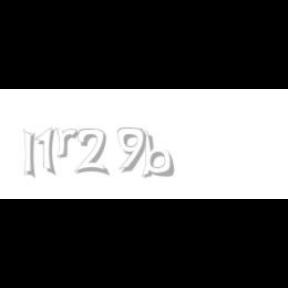1: (34, 128, 56, 176)
2: (74, 128, 108, 176)
9: (118, 128, 146, 172)
I: (24, 128, 36, 180)
b: (139, 128, 177, 178)
r: (56, 128, 83, 158)
